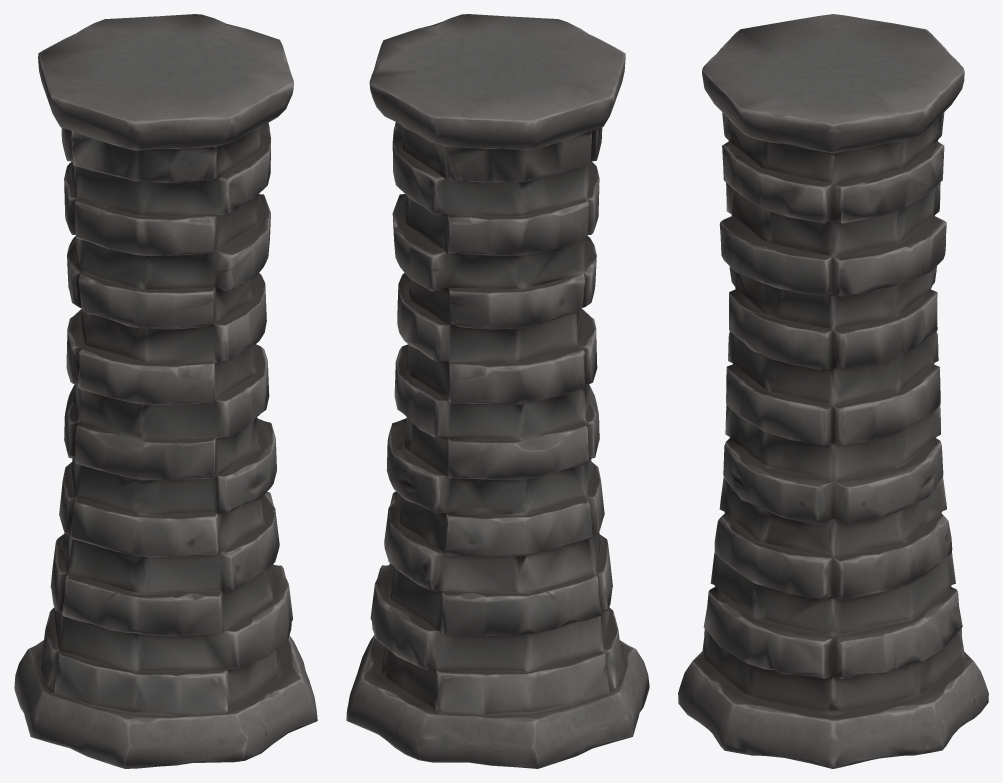
File: PillarLow.fbx
3 renders of one model, left to right at view 1: azimuth 30°, elevation 25°; view 2: azimuth 150°, elevation 25°; view 3: azimuth 270°, elevation 25°, orthographic.
Visible parts, largest first — view 1: PillarLowRes; view 2: PillarLowRes; view 3: PillarLowRes.
Boxes of the visible parts, x1=… form: PillarLowRes: x1=14, y1=14, x2=317, y2=768; PillarLowRes: x1=346, y1=14, x2=649, y2=768; PillarLowRes: x1=678, y1=14, x2=988, y2=768.
Size of the model in its own units: 199 by 198 by 446.
